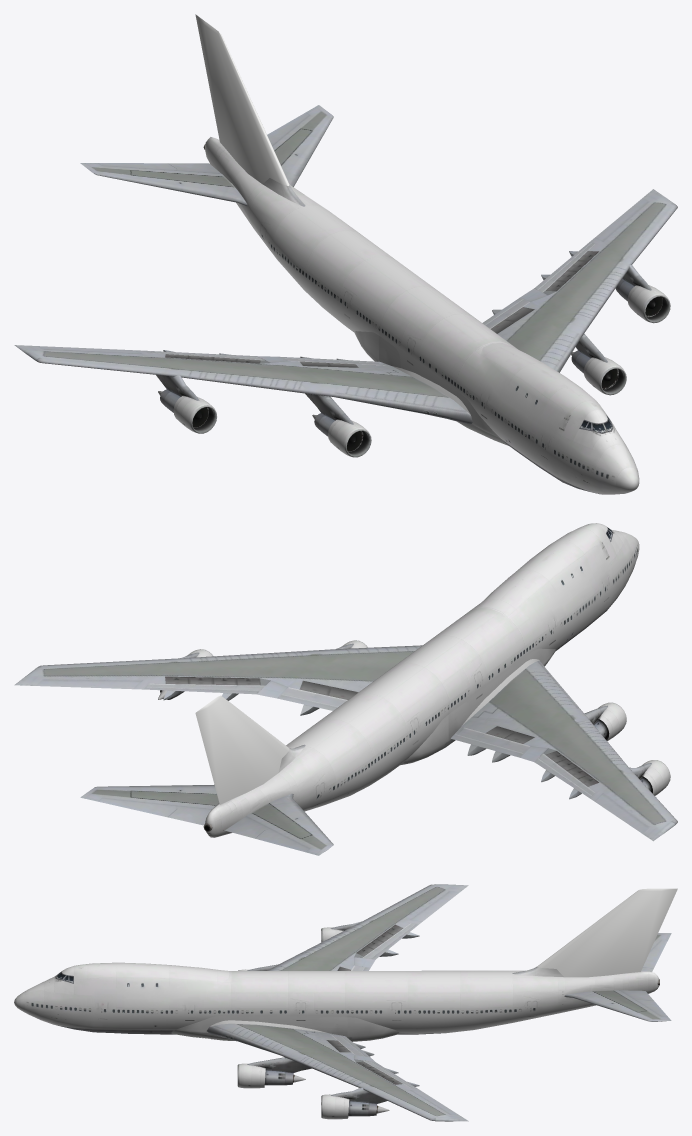
Rendered from airliner_747.glb.
3 renders of one model, top to bottom at view 1: azimuth 30°, elevation 25°; view 2: azimuth 150°, elevation 25°; view 3: azimuth 270°, elevation 25°, orthographic. The views are drawn at different scales.
Parts seen in each view (by area): view 1: BODY; view 2: BODY; view 3: BODY.
Part boxes in pixels (bbox=[...]): BODY: bbox=[14, 14, 677, 494]; BODY: bbox=[14, 523, 677, 855]; BODY: bbox=[14, 884, 677, 1121].
Bounding box in the file's own units: 59.33 × 17.78 × 70.6.
3 materials, 1 textured.
